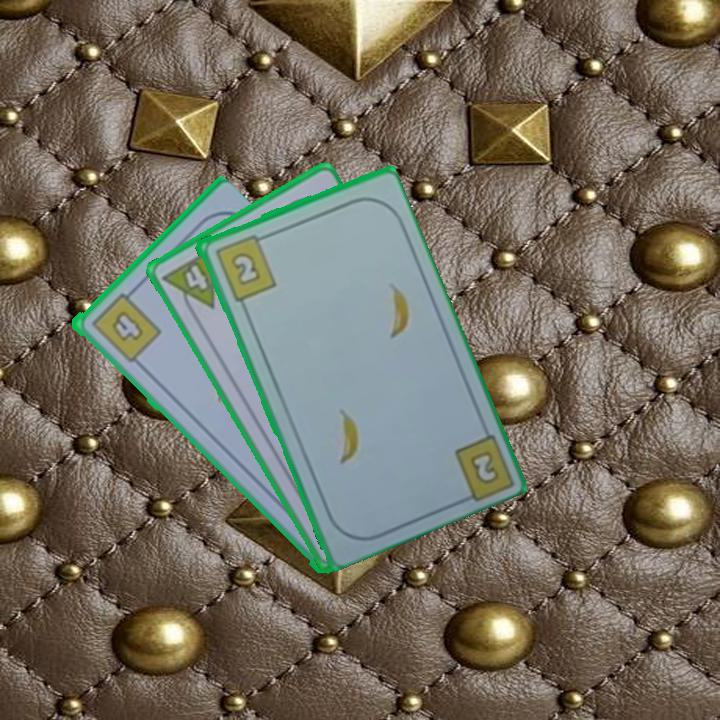2b: (450, 427, 515, 506), (211, 230, 279, 304)
4b: (87, 285, 164, 365)
4p: (159, 244, 218, 322)
